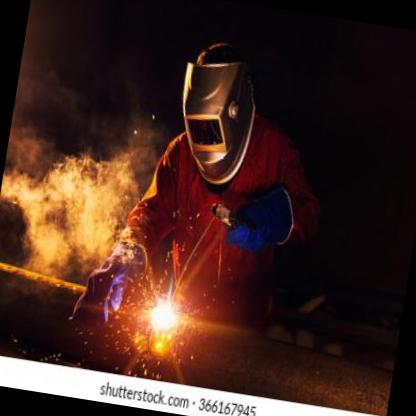Gloves: (70, 230, 152, 330), (220, 177, 302, 260)
